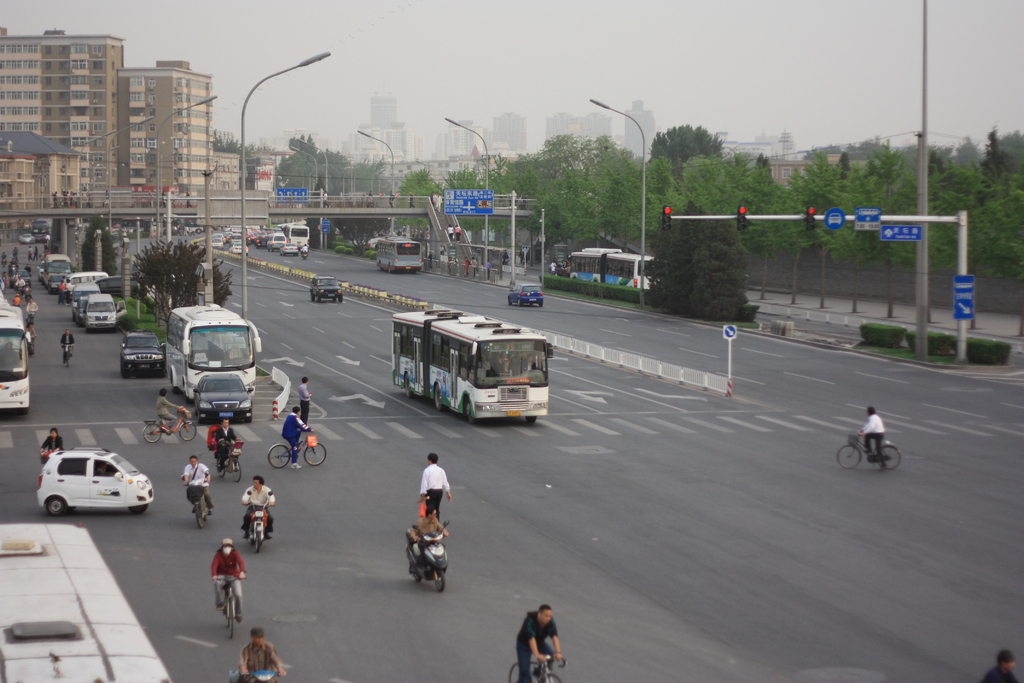Bus: (0, 524, 168, 682), (389, 306, 552, 425), (161, 304, 261, 404), (0, 299, 30, 415), (375, 237, 421, 274), (284, 222, 309, 248), (28, 219, 52, 241)
